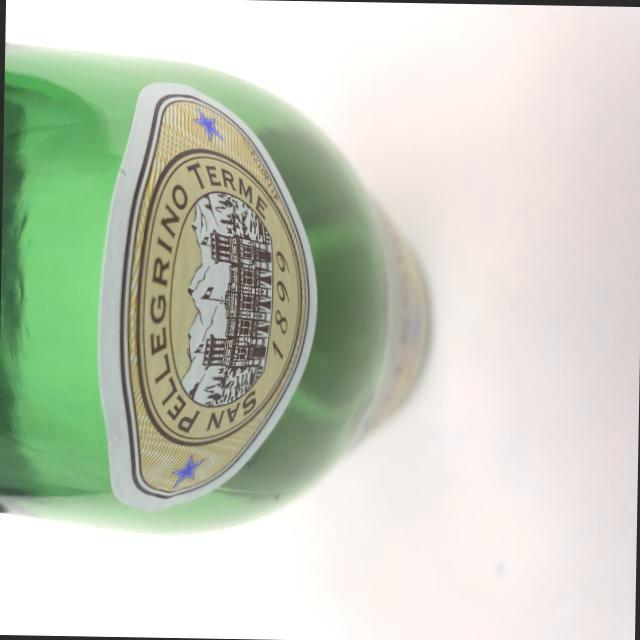glass: (0, 22, 442, 546)
